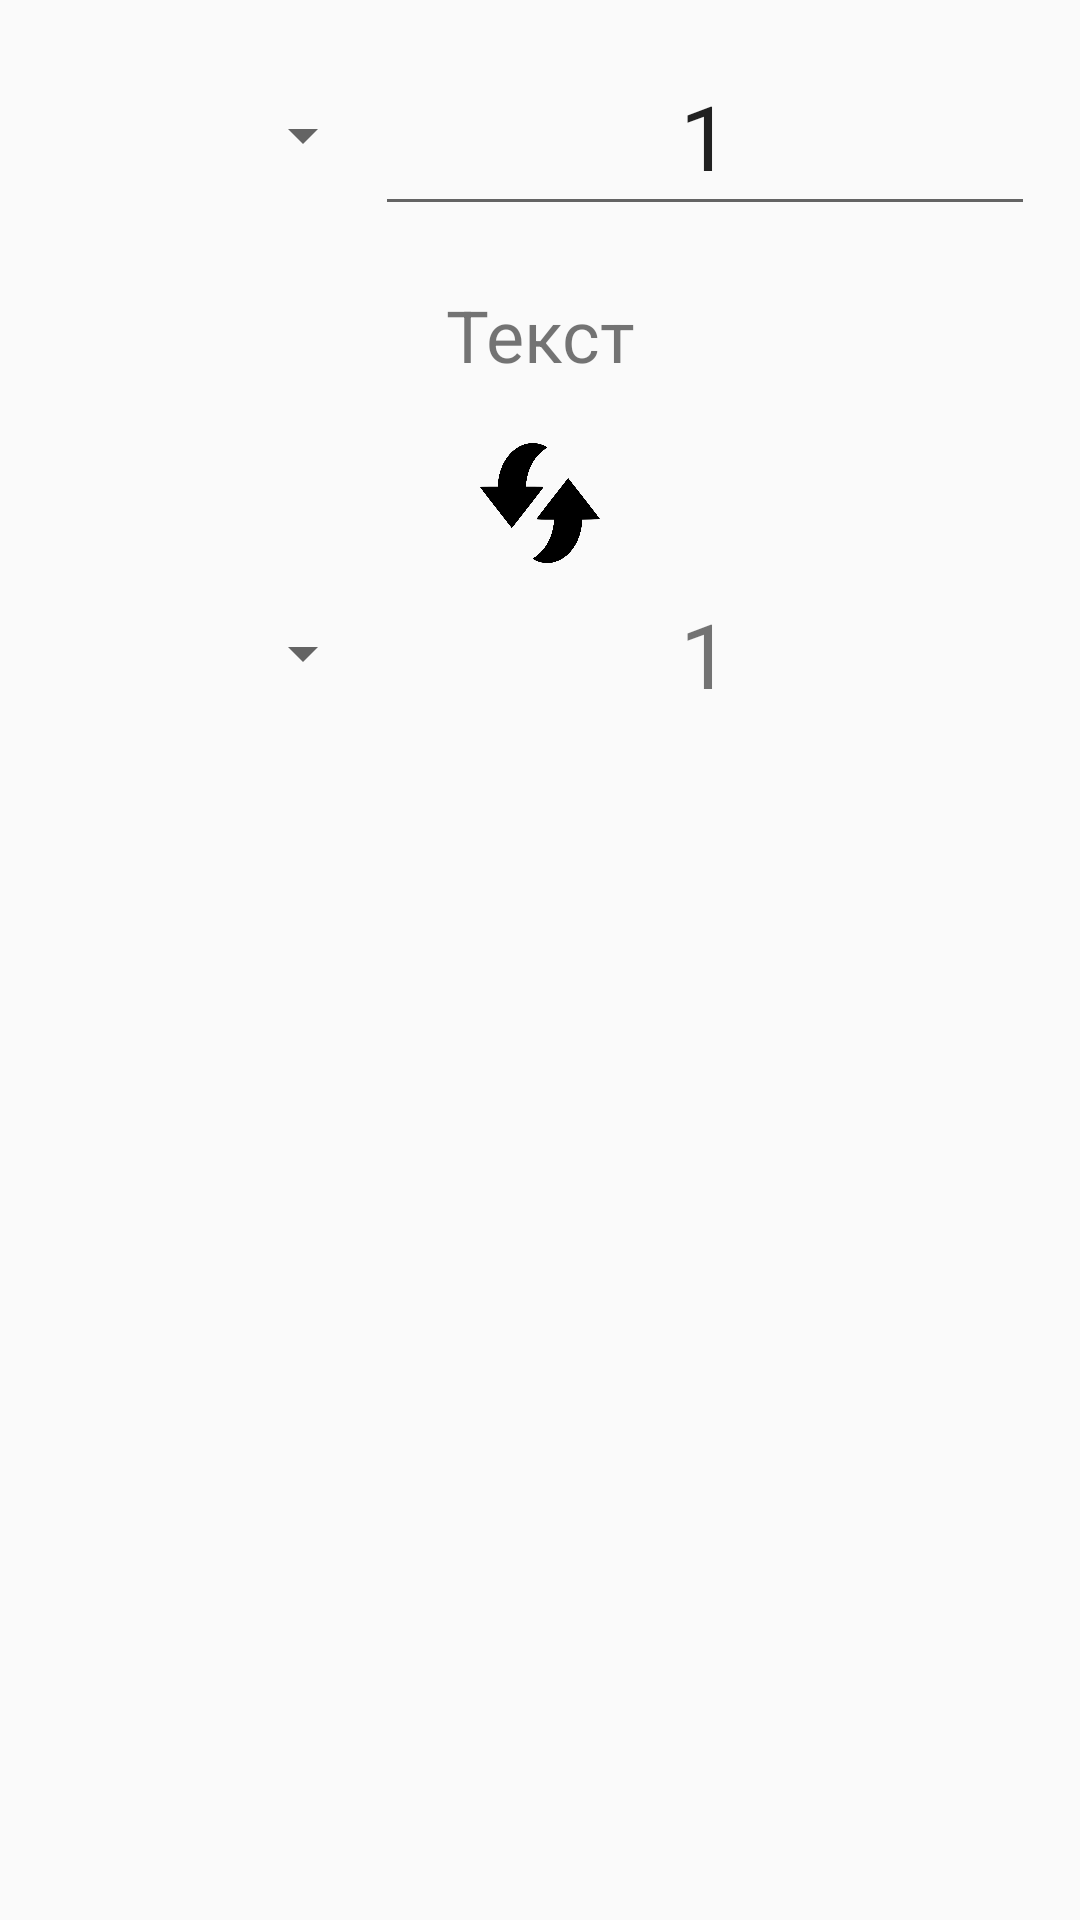

Screen size 1080px×1920px. Icon name, then its center in pixels as [x,y]:
swap: [540,503]
